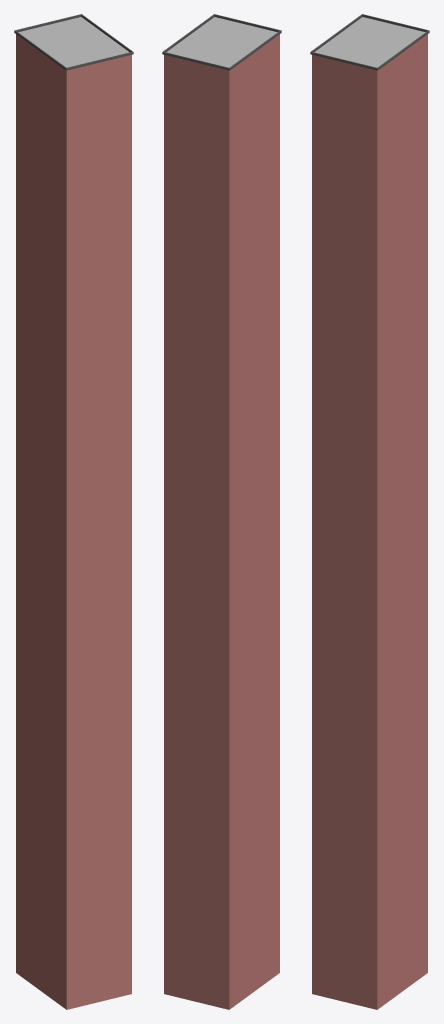
File: Building1.fbx
3 views of the same model, side by side, from view 1: azimuth 30°, elevation 25°; view 2: azimuth 150°, elevation 25°; view 3: azimuth 330°, elevation 25° (orthographic).
Visible parts, largest first — view 1: Cube; view 2: Cube; view 3: Cube.
Part boxes in pixels (x1,y1,x2,y2): Cube: (14,14,133,1009); Cube: (162,14,281,1009); Cube: (310,14,429,1009).
Size of the model in its own units: 300 by 4006 by 400.
